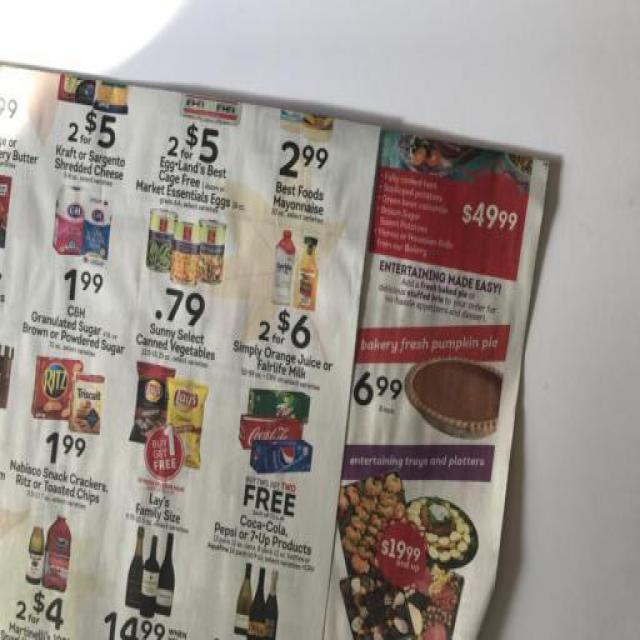paper: (6, 59, 564, 640)
